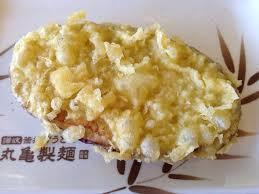satumaimo: (16, 17, 240, 161)
